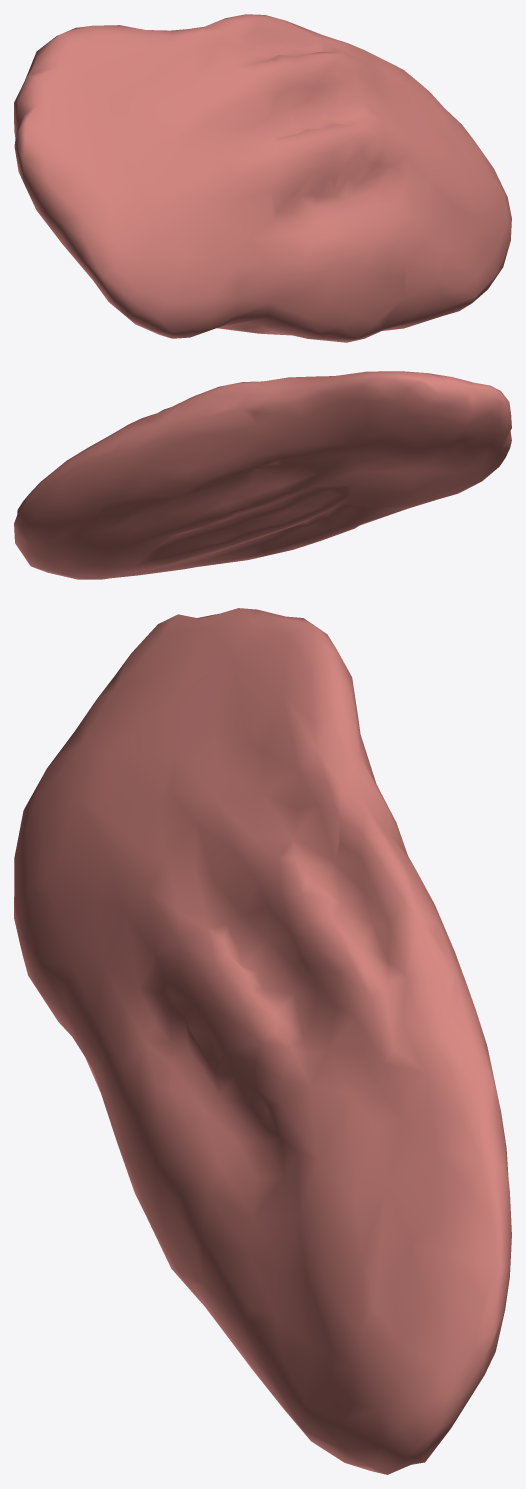
File: fma48982_mm1291.glb
The picture shows the model from 3 angles, top to bottom: view 1: azimuth 30°, elevation 25°; view 2: azimuth 150°, elevation 25°; view 3: azimuth 270°, elevation 25°; orthographic projection. The views are drawn at different scales.
Visible parts, largest first — view 1: FMA48982_MM1291; view 2: FMA48982_MM1291; view 3: FMA48982_MM1291.
Part boxes in pixels (<box>): FMA48982_MM1291: <box>14,14,511,342</box>; FMA48982_MM1291: <box>14,371,511,579</box>; FMA48982_MM1291: <box>14,608,511,1474</box>.
Size of the model in its own units: 0.0112 by 0.00695 by 0.0058.
